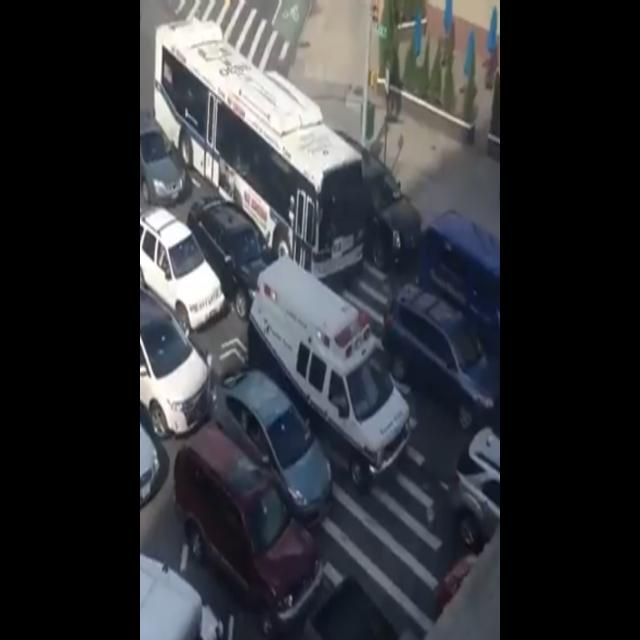Ambulance: (249, 252, 409, 498)
